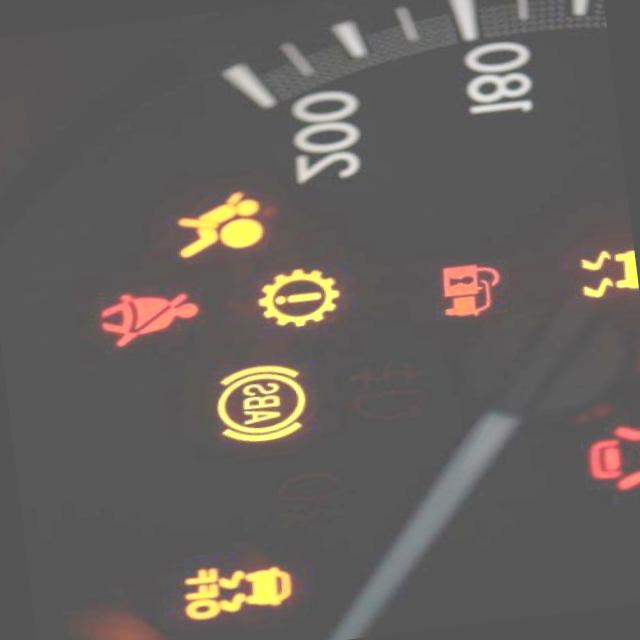kontrolka: (204, 352, 330, 464), (176, 548, 304, 624), (250, 256, 354, 336), (179, 185, 272, 261)
